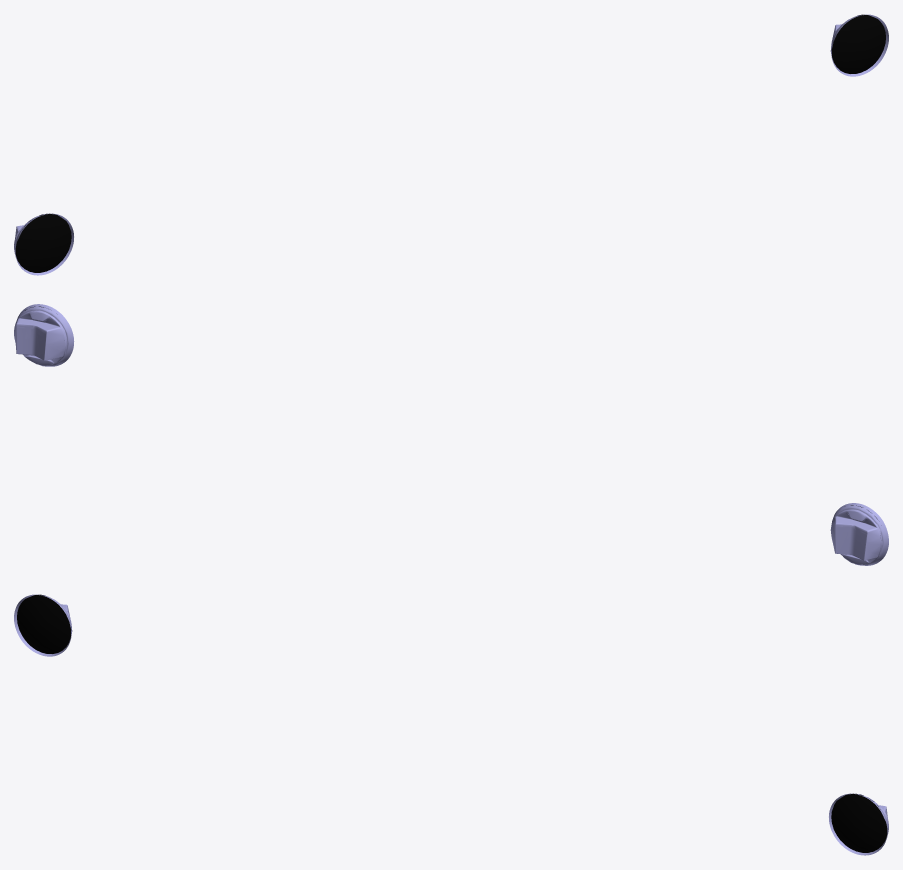
The model's file is TOYOTA_URBAN_CRUISER_PRE_EX_LIGHTS_FOGLIGHT_MESH.glb.
3 renders of one model, top to bottom at view 1: azimuth 30°, elevation 25°; view 2: azimuth 150°, elevation 25°; view 3: azimuth 330°, elevation 25°, orthographic.
Parts seen in each view (by area): view 1: TOYOTA_URBAN_CRUISER_PRE_EX_LIGHTS_FOGLIGHT_MESH; view 2: TOYOTA_URBAN_CRUISER_PRE_EX_LIGHTS_FOGLIGHT_MESH; view 3: TOYOTA_URBAN_CRUISER_PRE_EX_LIGHTS_FOGLIGHT_MESH.
Part boxes in pixels (x1,y1,x2,y2): TOYOTA_URBAN_CRUISER_PRE_EX_LIGHTS_FOGLIGHT_MESH: [14, 14, 888, 275]; TOYOTA_URBAN_CRUISER_PRE_EX_LIGHTS_FOGLIGHT_MESH: [14, 304, 888, 565]; TOYOTA_URBAN_CRUISER_PRE_EX_LIGHTS_FOGLIGHT_MESH: [14, 594, 888, 855].
Bounding box in the file's own units: 1.5 × 0.0999 × 0.0445.
